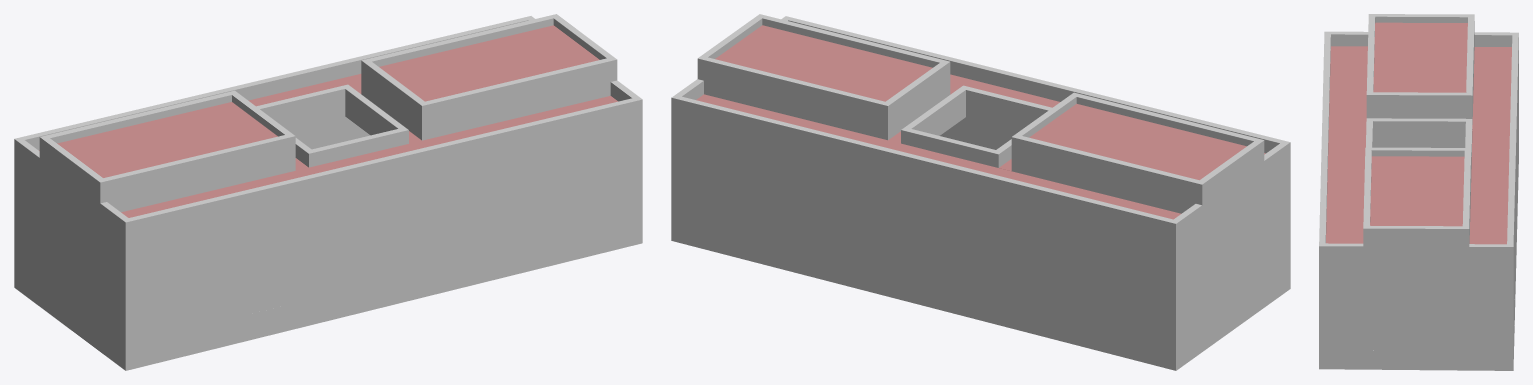
Rendered from LOD_Block_0_33.glb.
The picture shows the model from 3 angles, left to right: view 1: azimuth 30°, elevation 25°; view 2: azimuth 150°, elevation 25°; view 3: azimuth 270°, elevation 25°; orthographic projection. The views are drawn at different scales.
Visible parts, largest first — view 1: mesh_CityEngineMaterial_469; view 2: mesh_CityEngineMaterial_469; view 3: mesh_CityEngineMaterial_469.
Part boxes in pixels (box(x1,y1,x2,y2)): mesh_CityEngineMaterial_469: box(14, 14, 642, 370); mesh_CityEngineMaterial_469: box(671, 14, 1290, 370); mesh_CityEngineMaterial_469: box(1319, 14, 1518, 370).
Bounding box in the file's own units: 39.15 × 12.3 × 15.35.
